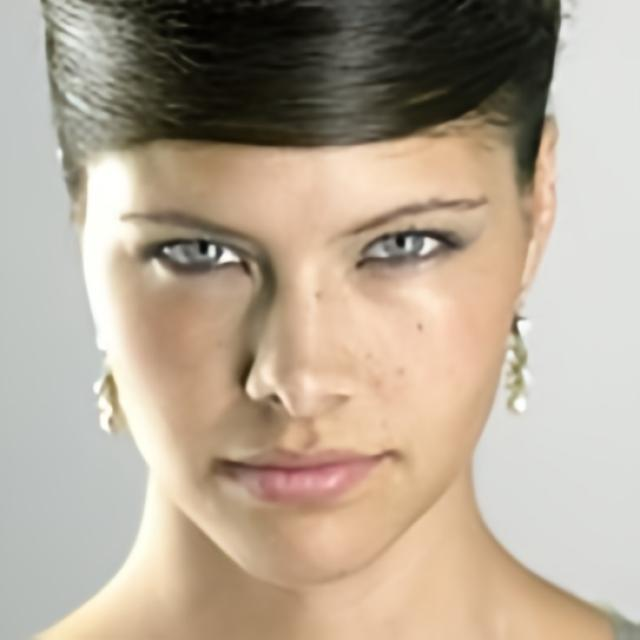anger: (78, 94, 524, 588)
